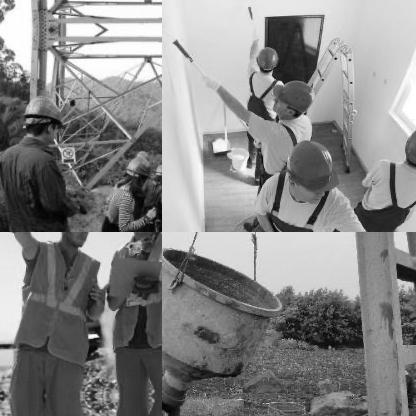Helmet: (282, 132, 338, 214), (16, 90, 66, 146), (265, 76, 315, 126), (394, 117, 415, 181), (249, 40, 282, 80), (51, 232, 102, 249), (124, 154, 148, 188), (153, 161, 161, 181)
